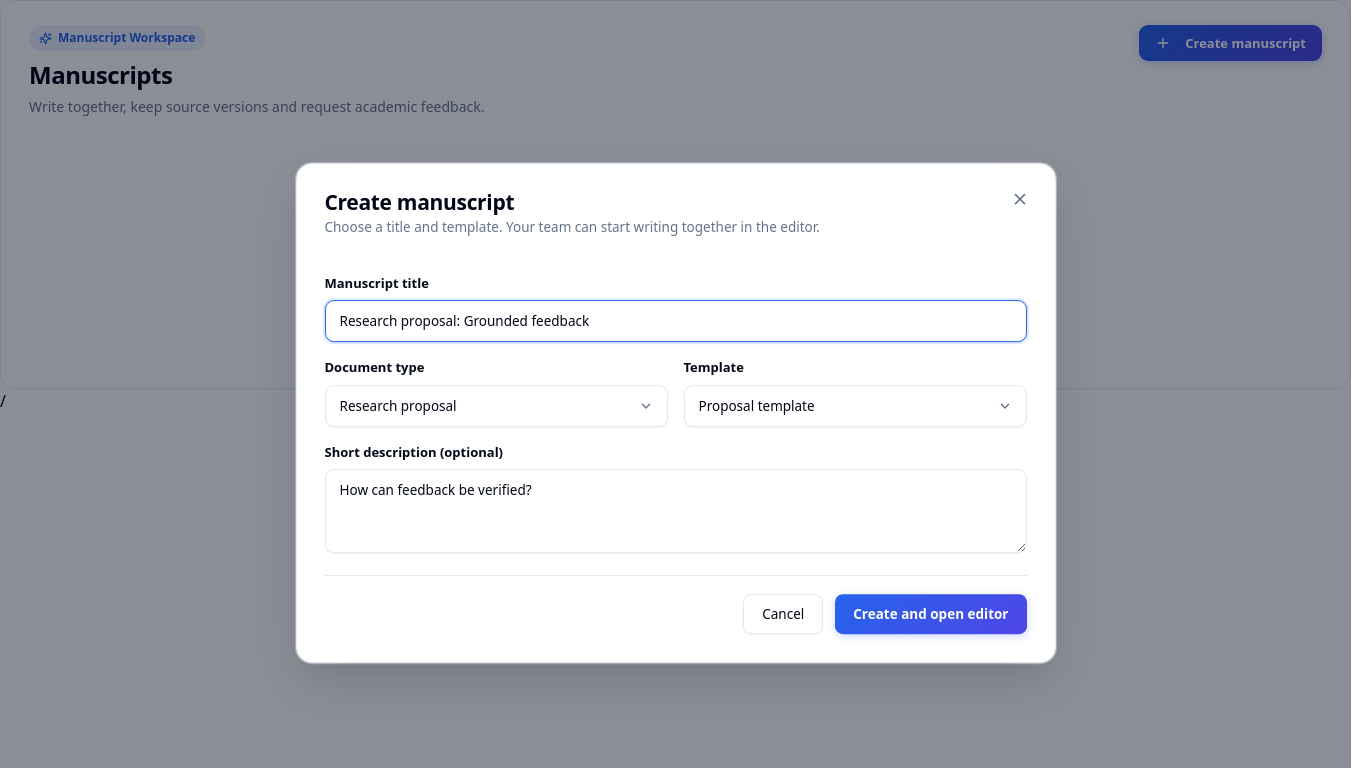
Test case: confirms a gap proposal before creation, keeps the source link after failure and opens the created editor
The width and height of the screenshot is (1366, 768).
Check: the field labelled "Manuscript title" holds "Research proposal: Grounded feedback", box [324, 300, 1026, 342]
Click the button "Create and open editor" at point(931, 614), box [835, 594, 1026, 634]
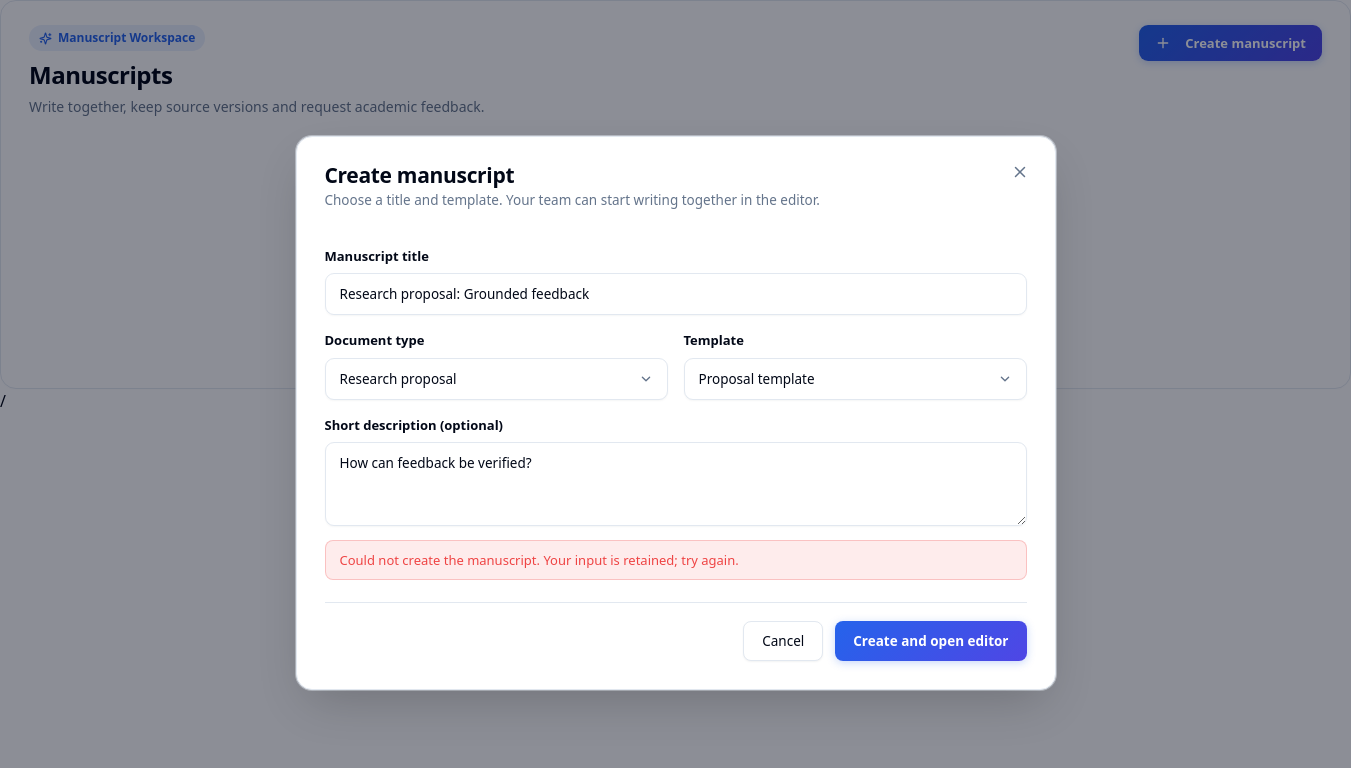
Check: the field labelled "Manuscript title" holds "Research proposal: Grounded feedback", box [324, 273, 1026, 315]
Check: the text "Your input is retained" is shown, box [340, 551, 739, 569]
Click the button "Create and open editor" at point(931, 641), box [835, 621, 1026, 661]
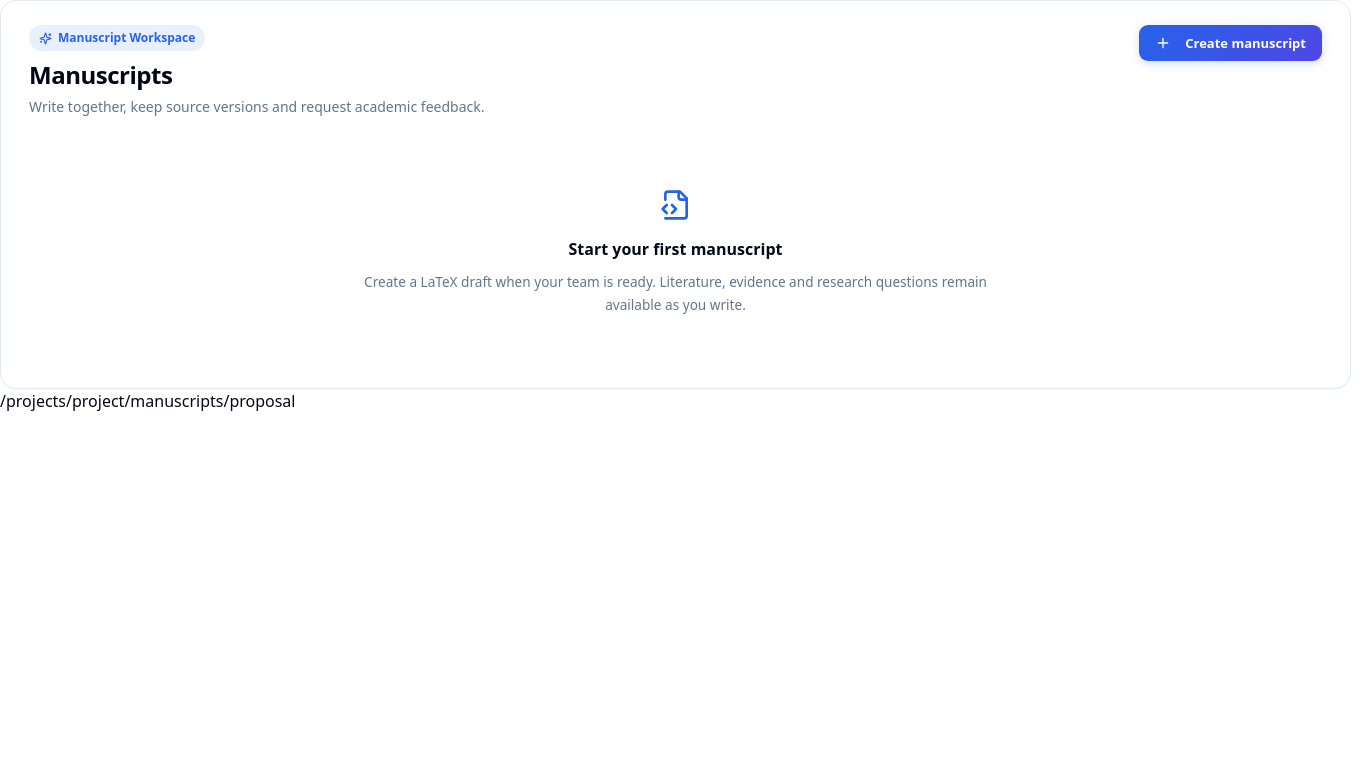
Check: the text "/projects/project/manuscripts/proposal" is shown, box [0, 390, 296, 412]
